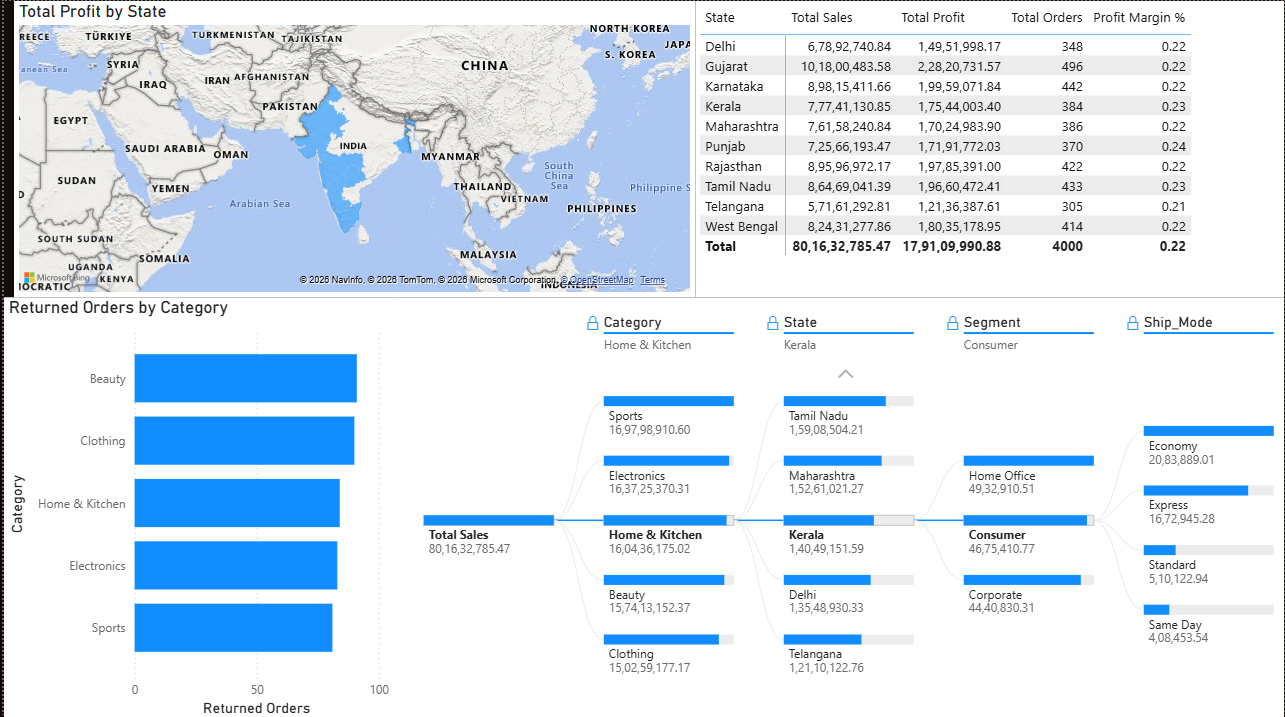

What the dashboard file says about the page in this screenshot:
{"tool":"powerbi","page":{"name":"Page 3","canvas":[1280,720],"ordinal":2},"visuals":[{"type":"filledMap","fields":{"Category":["retail_sales_data (1).State"]},"box":[9.8,0,681.1,295.9],"z":0},{"type":"pivotTable","fields":{"Rows":["retail_sales_data (1).State"],"Values":["DateTable.Total Sales","DateTable.Total Profit","DateTable.Total Orders","DateTable.Profit Margin %"]},"box":[691.4,0,588.6,295.7],"z":1000},{"type":"barChart","fields":{"Category":["retail_sales_data (1).Category"],"Y":["DateTable.Returned Orders"]},"box":[0,295.7,390,424.3],"z":2000},{"type":"decompositionTreeVisual","fields":{"Analyze":["DateTable.Total Sales"],"ExplainBy":["retail_sales_data (1).Category","retail_sales_data (1).State","retail_sales_data (1).Segment","retail_sales_data (1).Ship_Mode"]},"box":[390.1,295.9,890.2,424.3],"z":3000}]}

Visuals, with their boxes in screenshot pixels (x1, y1, x2, y2), scaled from the page's 1280x720 canvas onto the 1285x717 screenshot:
filledMap - retail_sales_data (1).State: {"left": 10, "top": 0, "right": 694, "bottom": 295}
pivotTable - retail_sales_data (1).State x DateTable.Total Sales: {"left": 694, "top": 0, "right": 1284, "bottom": 294}
barChart - retail_sales_data (1).Category x DateTable.Returned Orders: {"left": 0, "top": 294, "right": 392, "bottom": 716}
decompositionTreeVisual - DateTable.Total Sales x retail_sales_data (1).Category: {"left": 392, "top": 295, "right": 1284, "bottom": 716}
